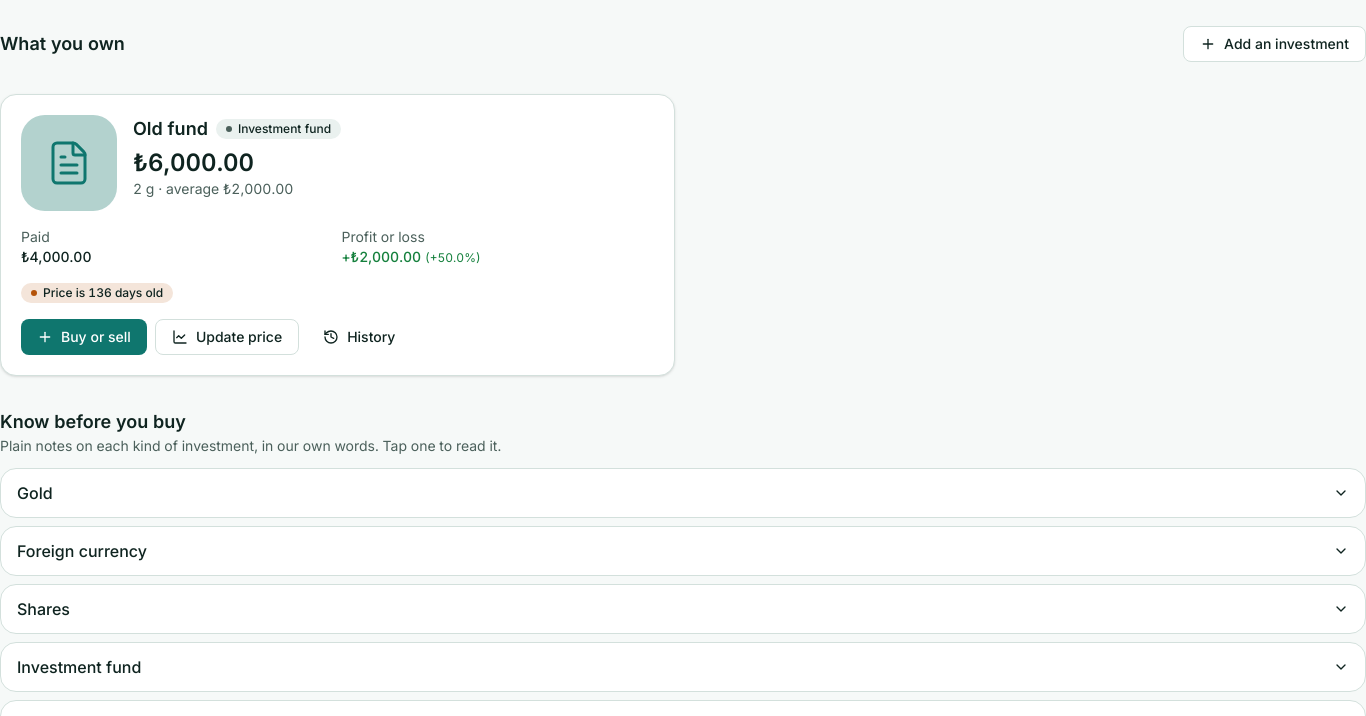
InvestmentsBoard › updates the price with its date
This screenshot has width=1366, height=716.
(page scrolled)
Click the button "Update price".
click(227, 337)  # box [155, 319, 299, 355]
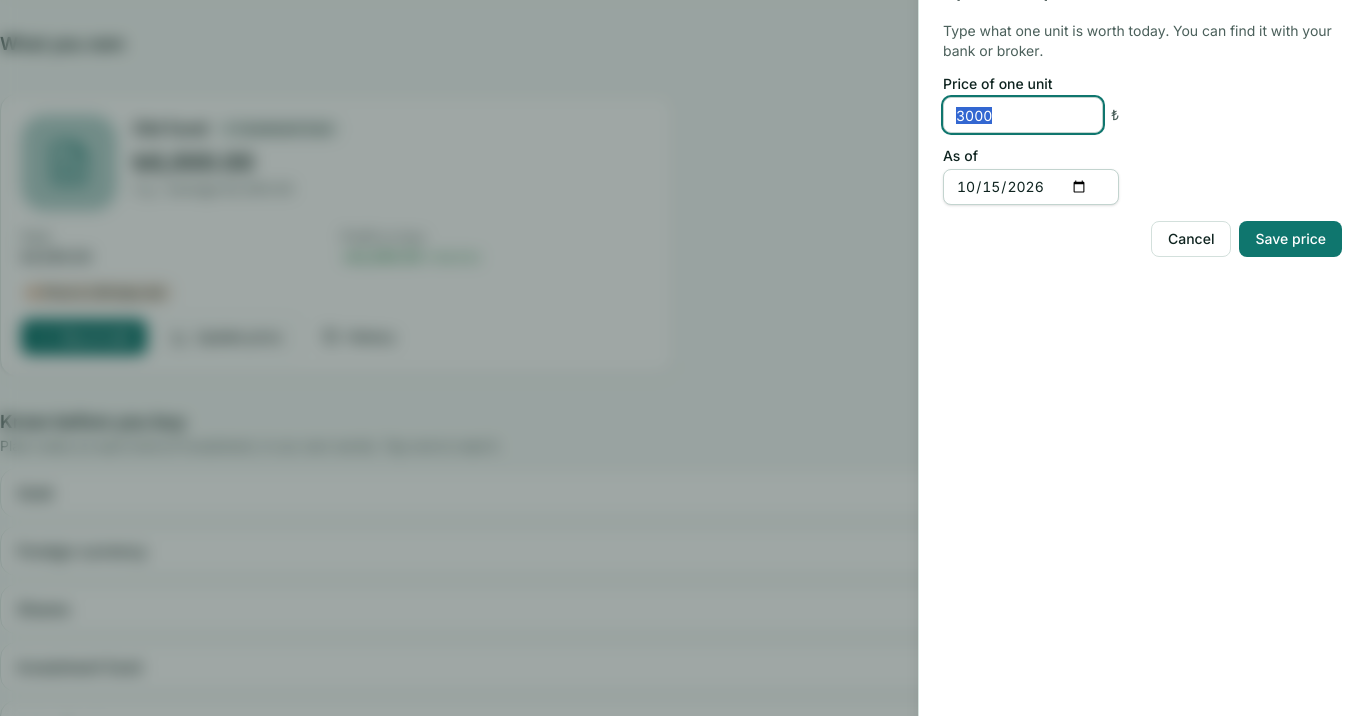
Replace the text in the field labelled "Price of one unit" with "3500" at [1023, 115], box [943, 97, 1103, 133]
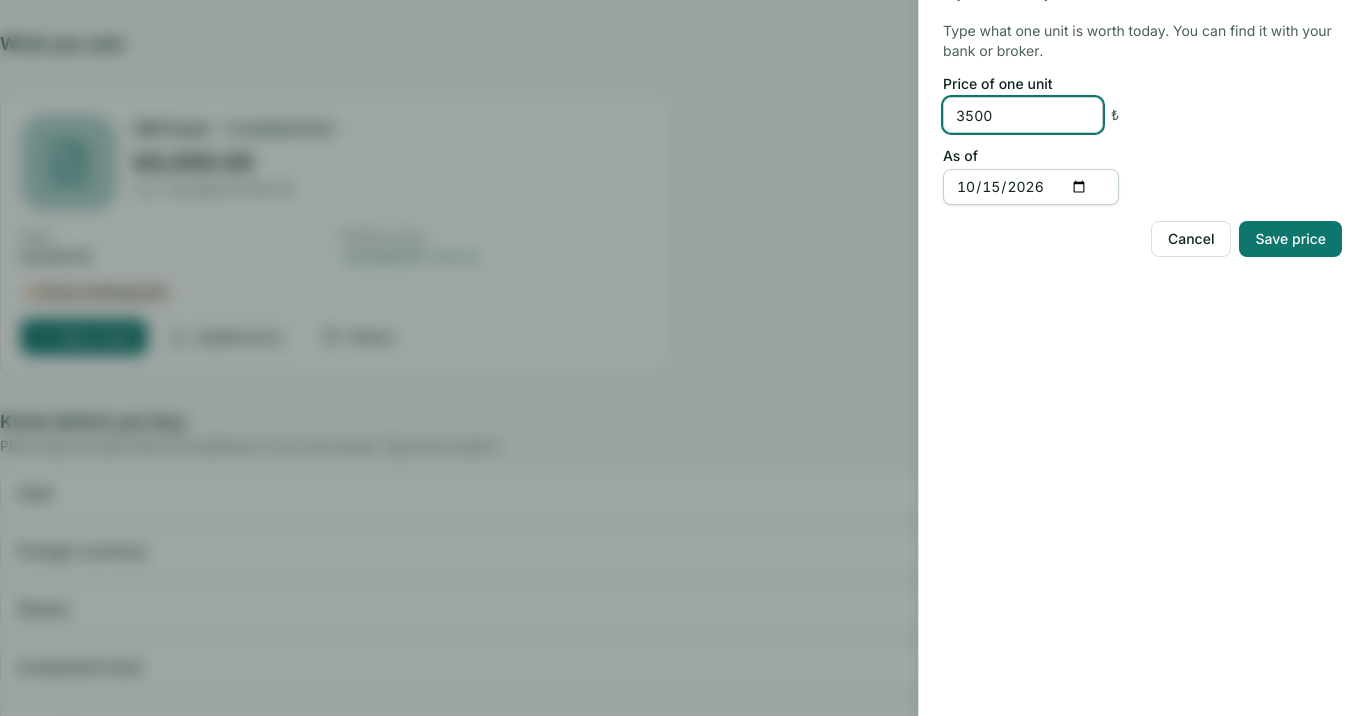
Type "2026-10-14" into the date field labelled "As of".
click(1031, 187); type("2026-10-14")  # box [943, 169, 1119, 205]
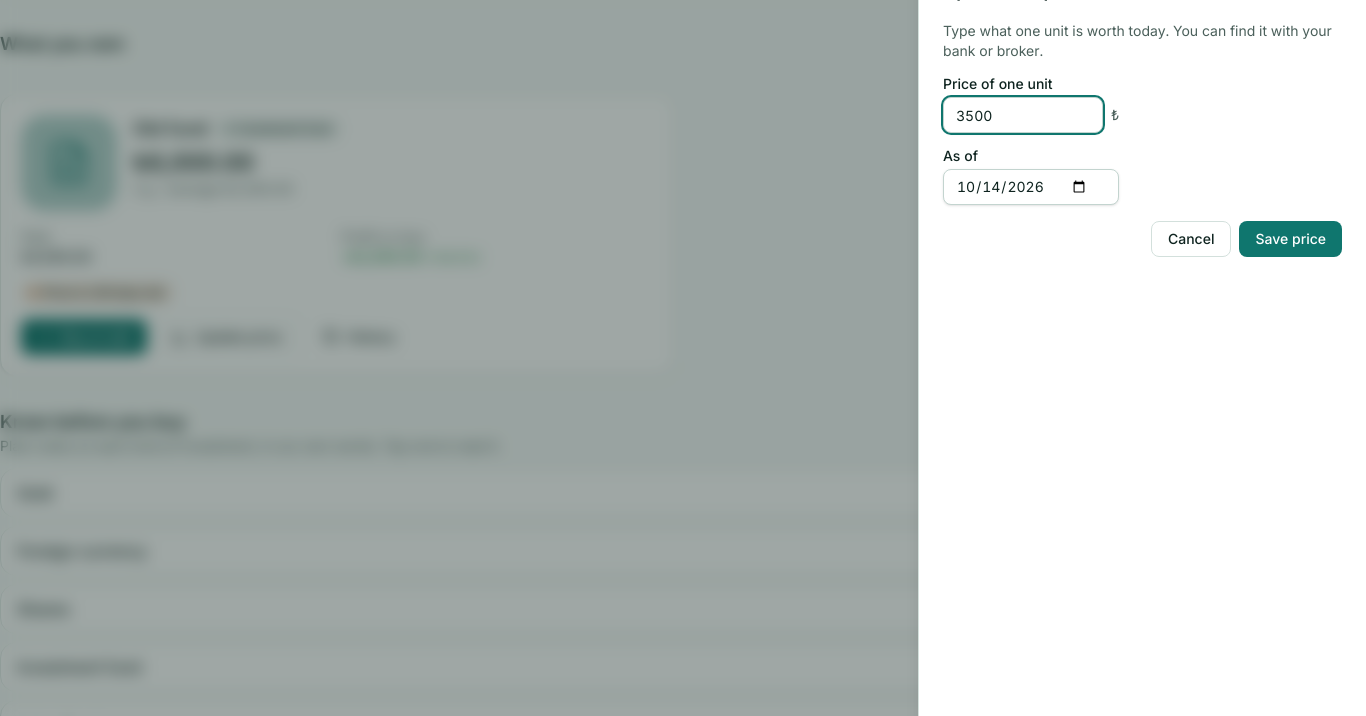
Click the button "Save price".
click(1291, 239)  # box [1239, 221, 1342, 257]
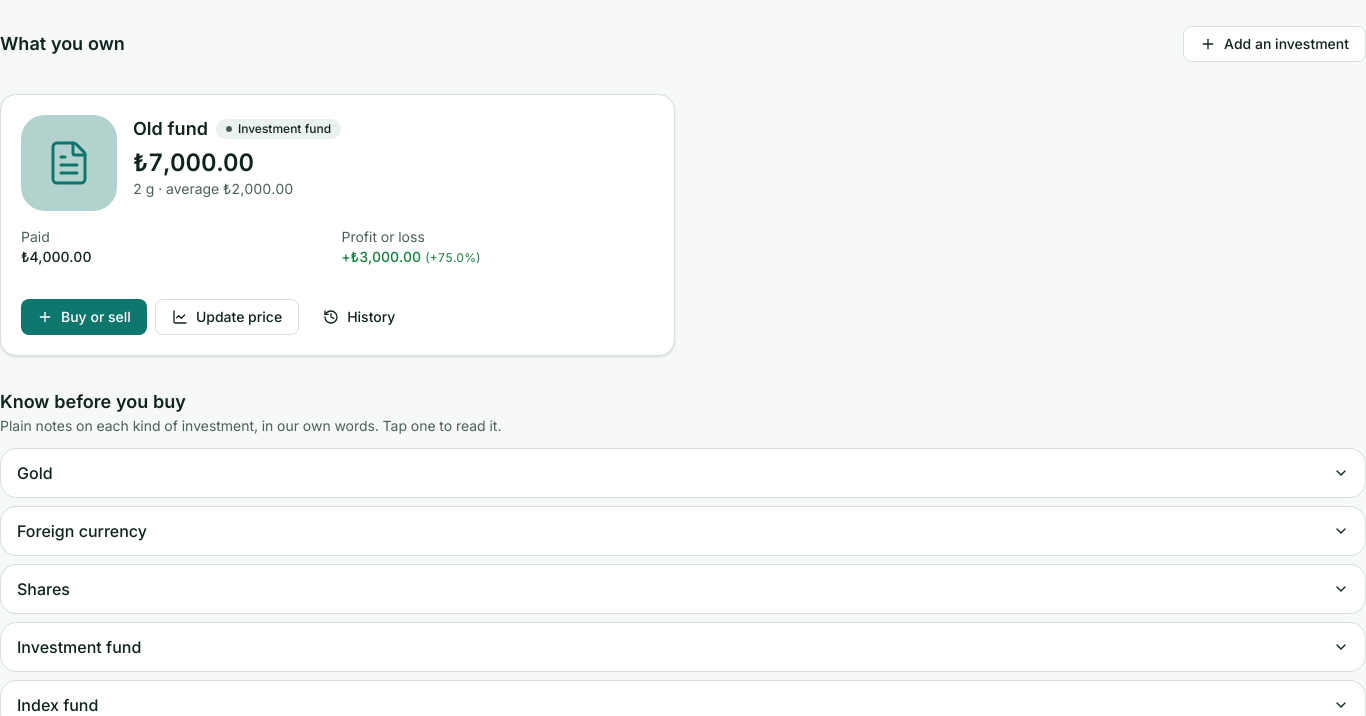
Expected: the text with test id "holding-stale-s" is gone
